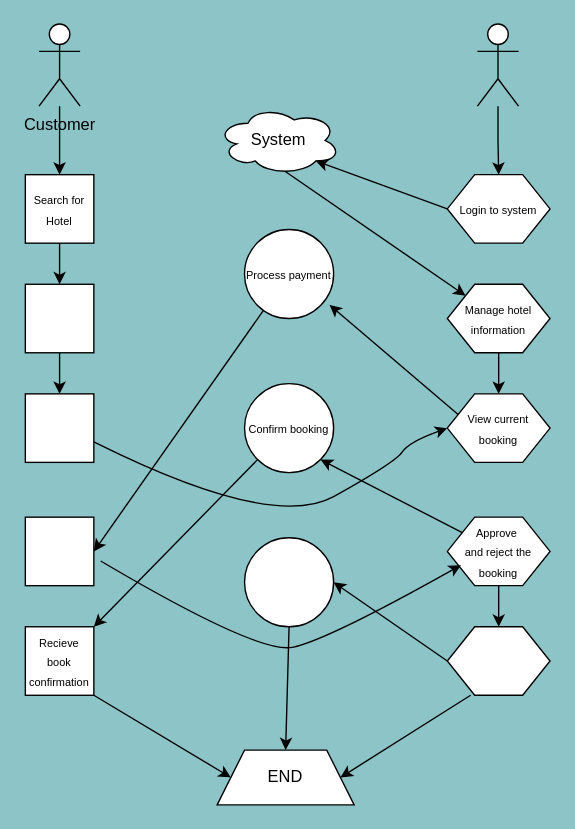
This 575x829 diagram has some shape labels left out. Here are the shapes that lost their labels. From the top down, the centre of each, then its label:
At [497,64]: "Hotel Manager".
At [59,318]: "View Hotel Details".
At [59,427]: "Book Hotel".
At [59,551]: "Enter payment".
At [288,581]: "Store and retrieve data".
At [498,660]: "Update booking status".
